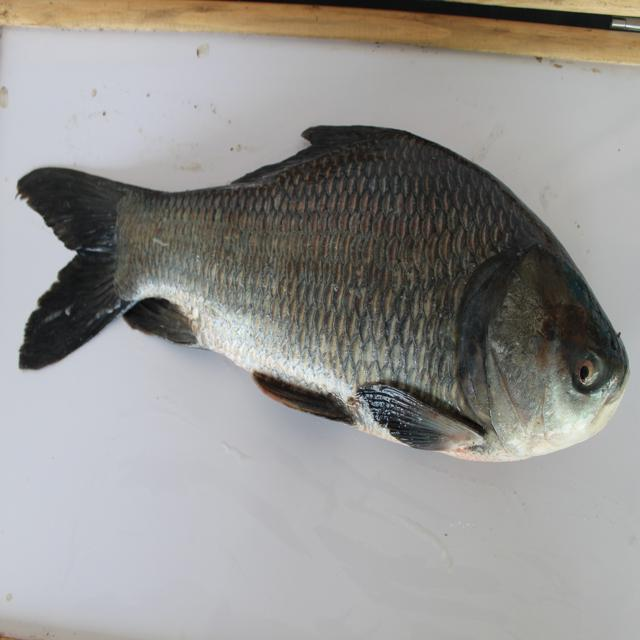Catla: (8, 118, 629, 467)
